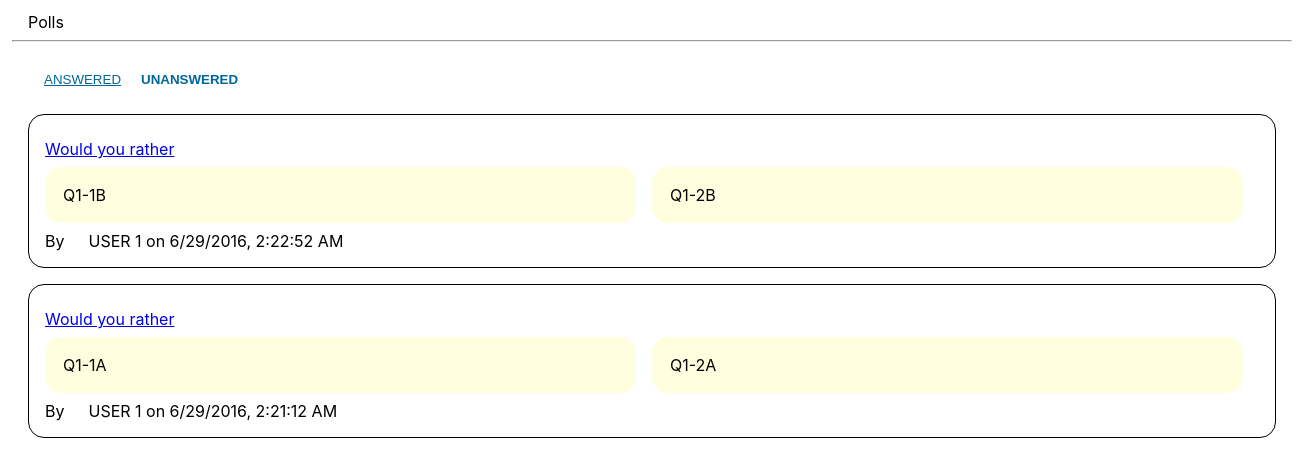
Polls Dashboard page › displays answered questions
Click the button "ANSWERED": (82, 80) [44, 72, 121, 87]
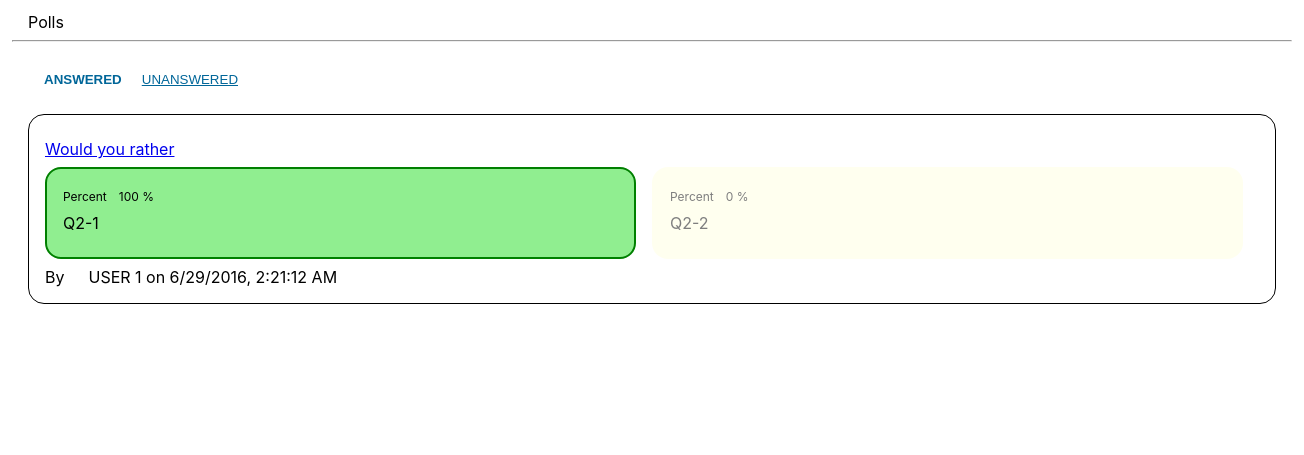
Result: the text "Q2-1" is shown at [63, 213, 99, 233]
Result: the text "Q2-2" is shown at [670, 213, 709, 233]
Result: the text "Q1-1A" is gone
